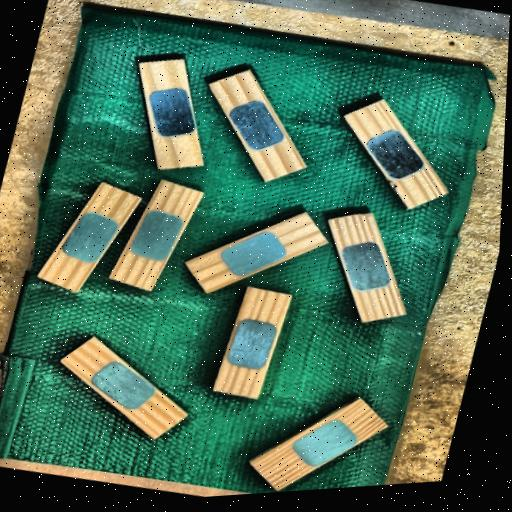objects: (59, 329, 188, 445), (249, 393, 387, 495), (36, 174, 142, 301), (343, 91, 449, 217), (184, 208, 327, 297), (208, 63, 306, 189), (108, 173, 202, 299), (212, 280, 292, 405), (327, 205, 405, 329), (138, 55, 202, 174)
